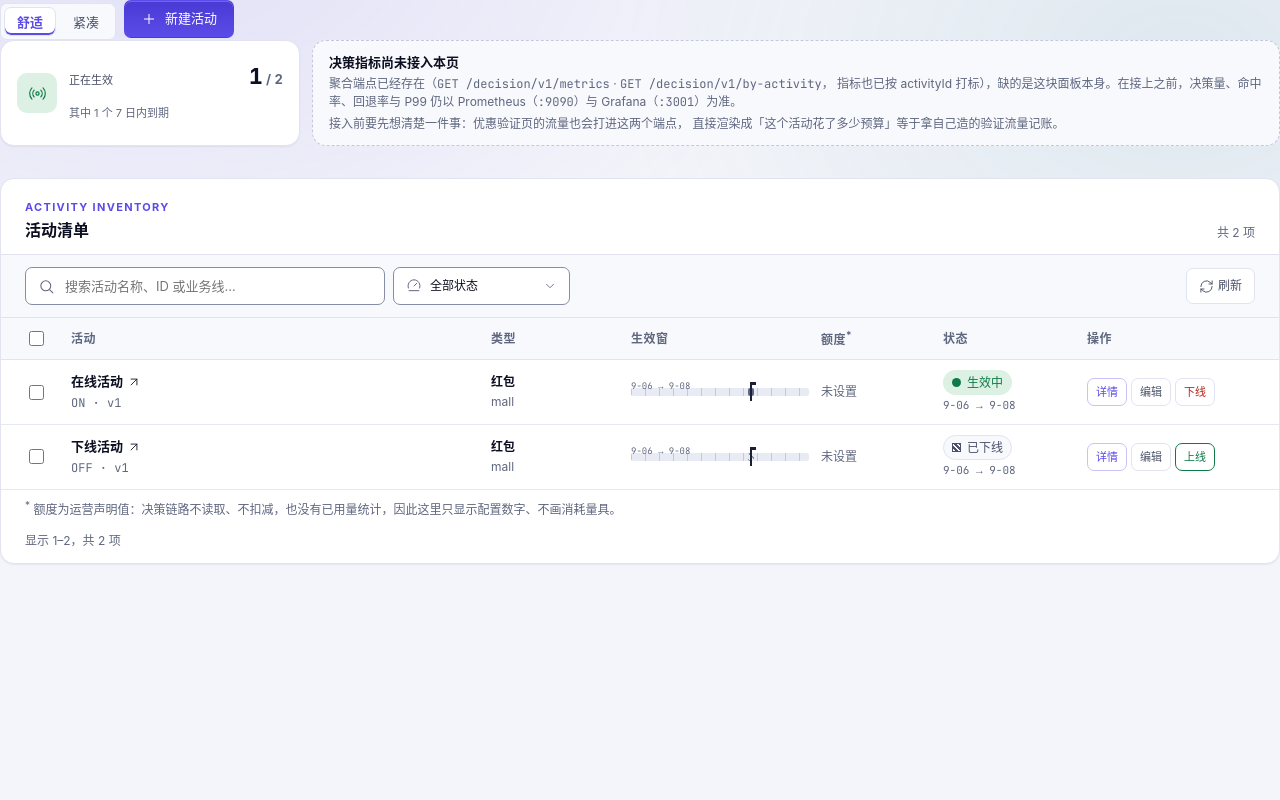
Test: ListView 工作台 › 筛选变化后，看不见的行必须从选中集里掉出去
Click the checkbox with test id "select-page".
click(36, 339)  # box [29, 331, 44, 346]
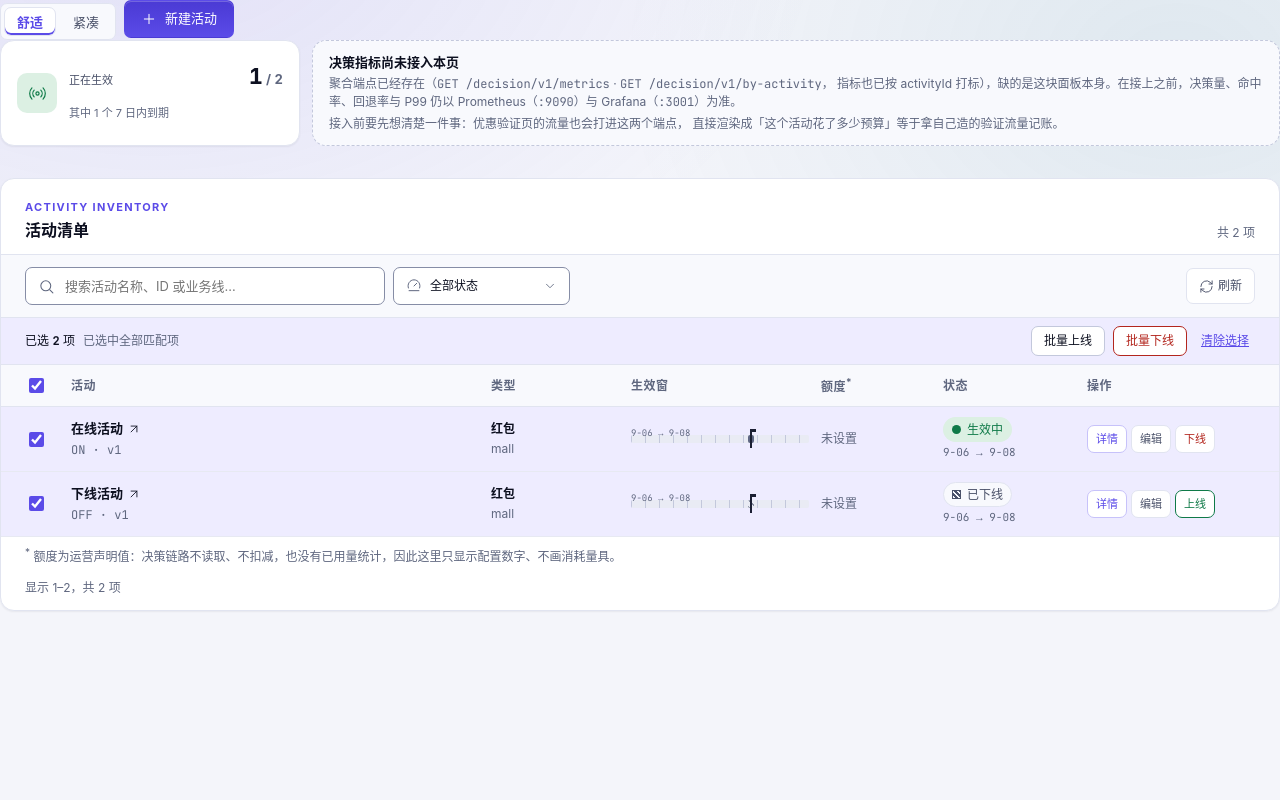
Expected: the element with test id "bulk-count" shows "2", [52, 333, 60, 349]
Select "仅看上线" in the dropdown with test id "list-status-filter" at (482, 286), box [430, 277, 535, 295]
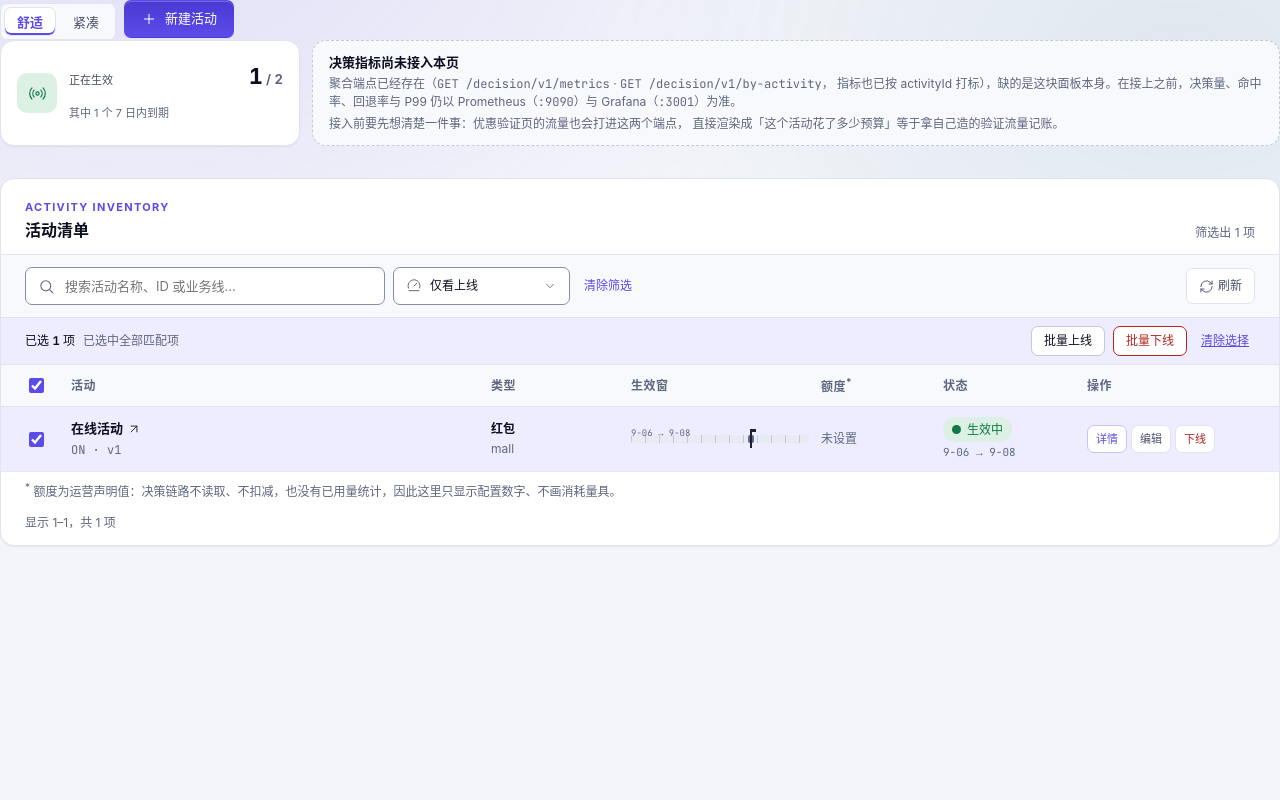
Expected: the element with test id "bulk-count" shows "1", [52, 333, 60, 349]
